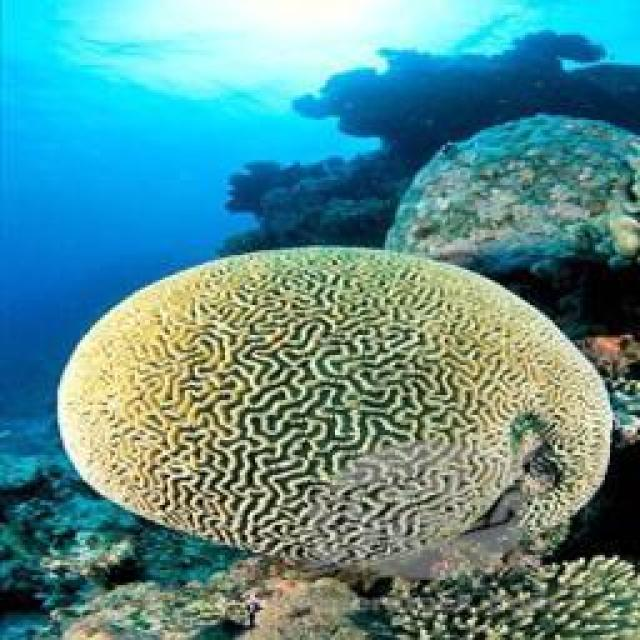reefs: (54, 248, 613, 579), (385, 114, 638, 279), (380, 553, 638, 638)
